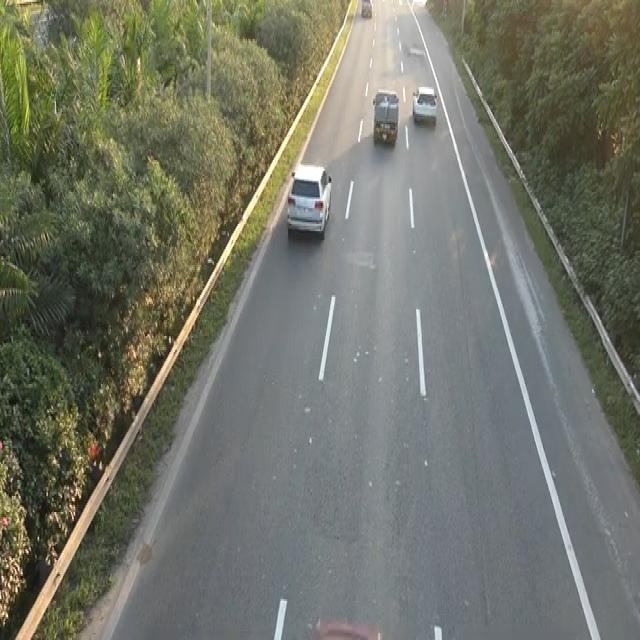car: (284, 158, 335, 245), (411, 82, 440, 130)
minivan: (371, 85, 400, 146)
